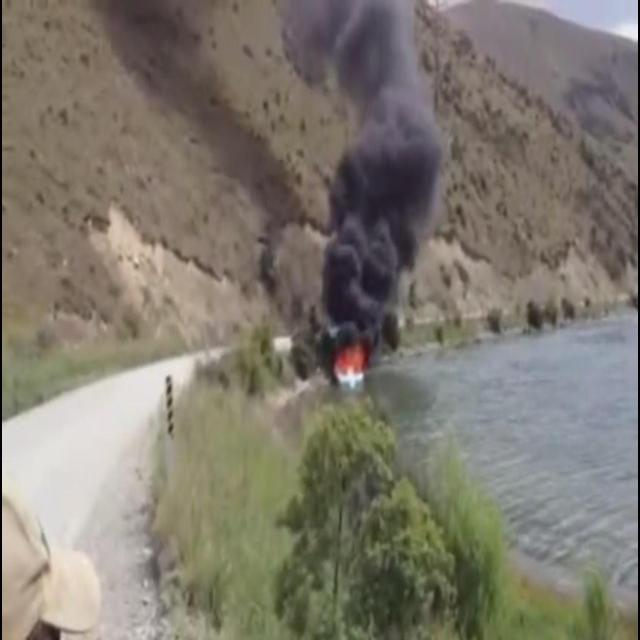fire: (336, 344, 366, 379)
smoke: (286, 0, 442, 337)
